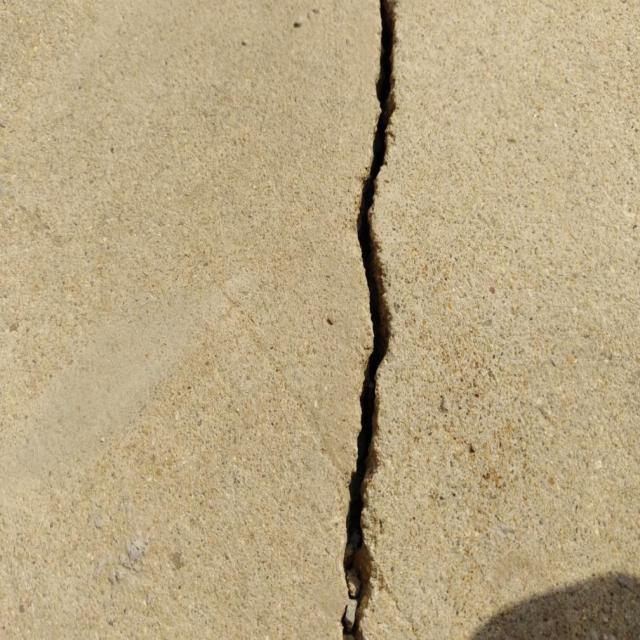vertical crack: (339, 0, 395, 639)
